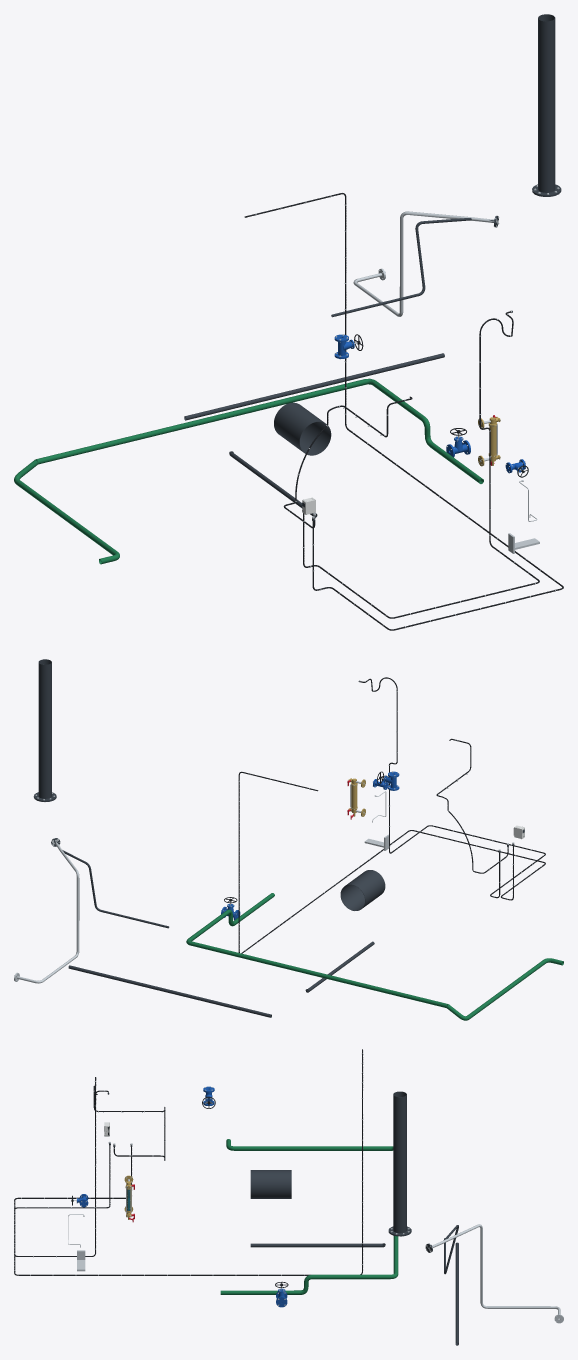
The model's file is s4000-3-ZFzsliGO.glb.
The picture shows the model from 3 angles, top to bottom: view 1: azimuth 30°, elevation 25°; view 2: azimuth 150°, elevation 25°; view 3: azimuth 270°, elevation 25°; orthographic projection. The views are drawn at different scales.
Visible parts, largest first — view 1: bdv_vent / dark, suction_common / green, flue_spacer / dark, mod_direct_drive_cable / black, wiring_pressure_transmitter / black, bottom_discharge / dark, trap_gap_to_bdv / steel, deaerator_feed / green, tds_without_fv / dark; view 2: bdv_vent / dark, suction_common / green, flue_spacer / dark, mod_direct_drive_cable / black, bottom_discharge / dark, wiring_pressure_transmitter / black, trap_gap_to_bdv / steel, deaerator_feed / green, tds_without_fv / dark; view 3: bdv_vent / dark, flue_spacer / dark, suction_common / green, mod_direct_drive_cable / black, deaerator_feed / green, trap_gap_to_bdv / steel, bottom_piping / dark, wiring_pressure_transmitter / black, bottom_discharge / dark.
Boxes of the visible parts, x1=… form: bdv_vent / dark: x1=532, y1=14, x2=561, y2=196; suction_common / green: x1=35, y1=378, x2=483, y2=483; flue_spacer / dark: x1=274, y1=402, x2=331, y2=455; mod_direct_drive_cable / black: x1=244, y1=193, x2=563, y2=630; wiring_pressure_transmitter / black: x1=303, y1=311, x2=539, y2=618; bottom_discharge / dark: x1=184, y1=353, x2=444, y2=420; trap_gap_to_bdv / steel: x1=353, y1=211, x2=499, y2=316; deaerator_feed / green: x1=14, y1=460, x2=119, y2=564; tds_without_fv / dark: x1=331, y1=216, x2=498, y2=317; bdv_vent / dark: x1=33, y1=659, x2=56, y2=801; suction_common / green: x1=186, y1=893, x2=448, y2=1007; flue_spacer / dark: x1=340, y1=870, x2=385, y2=910; mod_direct_drive_cable / black: x1=238, y1=771, x2=545, y2=953; bottom_discharge / dark: x1=68, y1=965, x2=271, y2=1017; wiring_pressure_transmitter / black: x1=360, y1=677, x2=545, y2=898; trap_gap_to_bdv / steel: x1=14, y1=838, x2=79, y2=983; deaerator_feed / green: x1=446, y1=958, x2=563, y2=1020; tds_without_fv / dark: x1=51, y1=838, x2=169, y2=928; bdv_vent / dark: x1=388, y1=1091, x2=411, y2=1236; flue_spacer / dark: x1=250, y1=1170, x2=291, y2=1198; suction_common / green: x1=220, y1=1236, x2=398, y2=1294; mod_direct_drive_cable / black: x1=14, y1=1049, x2=363, y2=1275; deaerator_feed / green: x1=226, y1=1139, x2=393, y2=1150; trap_gap_to_bdv / steel: x1=425, y1=1224, x2=563, y2=1323; bottom_piping / dark: x1=250, y1=1243, x2=385, y2=1247; wiring_pressure_transmitter / black: x1=14, y1=1077, x2=131, y2=1256; bottom_discharge / dark: x1=455, y1=1242, x2=458, y2=1345.
Size of the model in its own units: 6.36 by 3.77 by 6.74.
